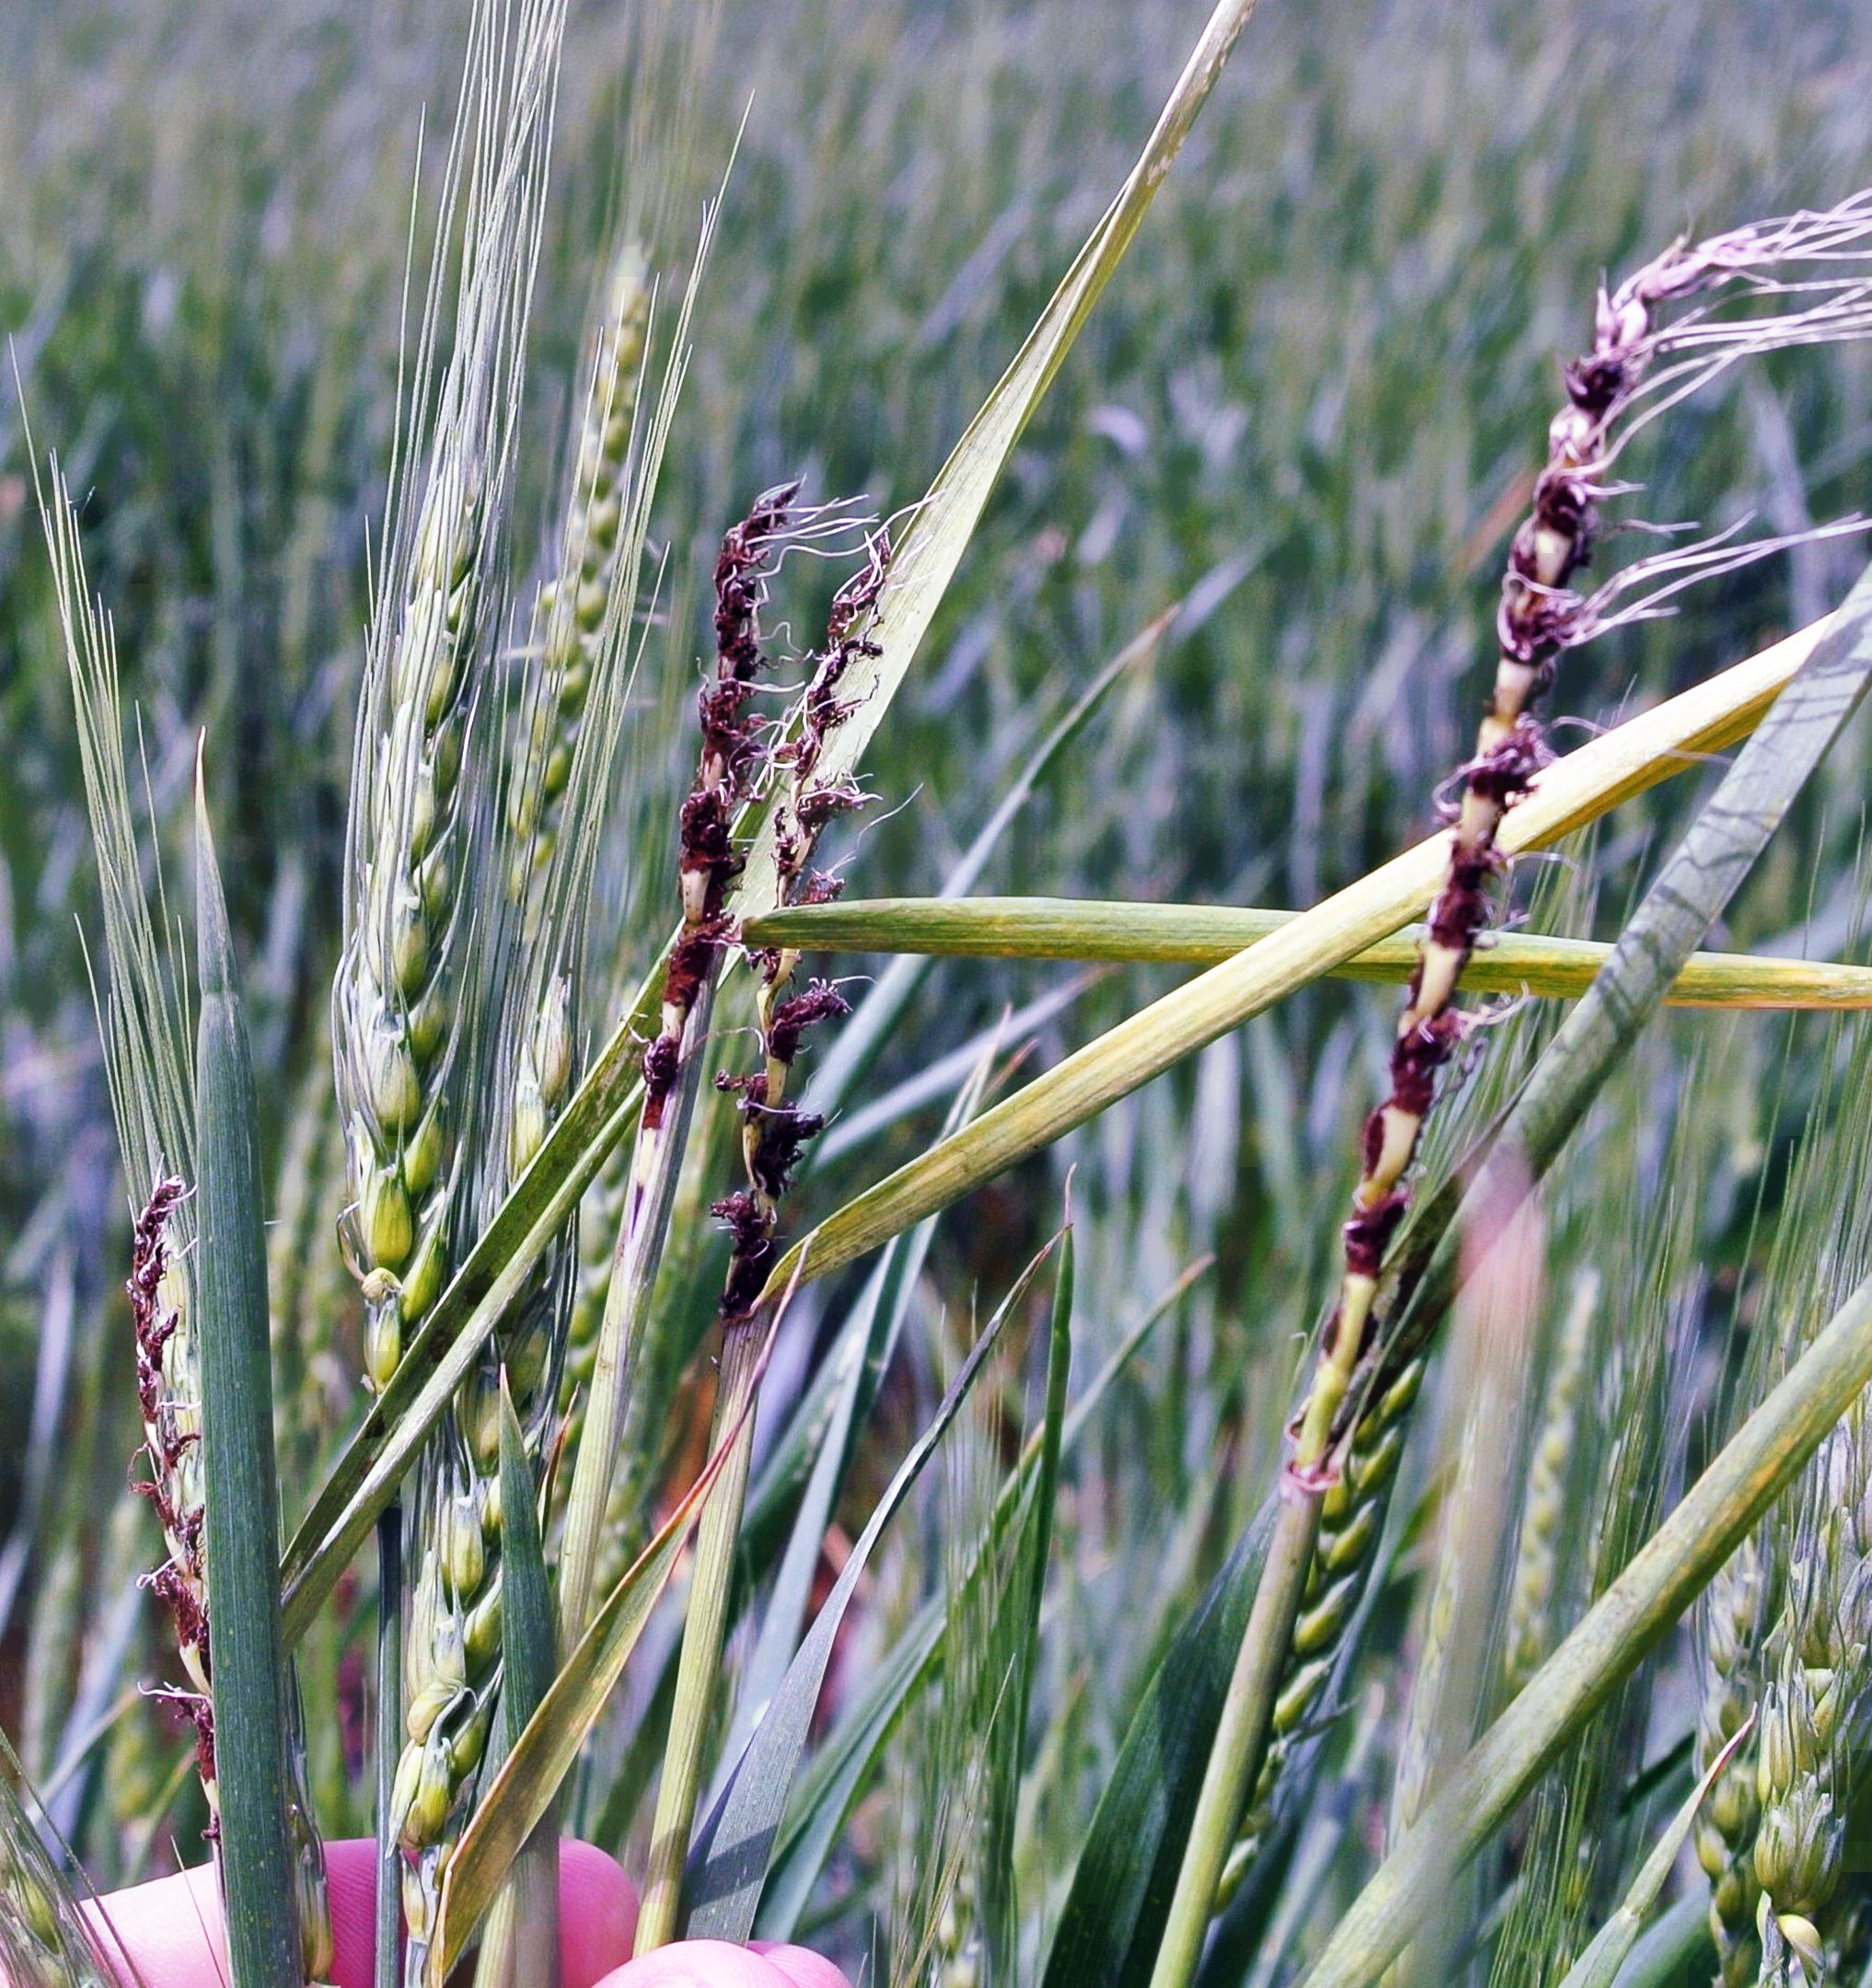Wheat Loose Smut: (612, 482, 929, 1126)
